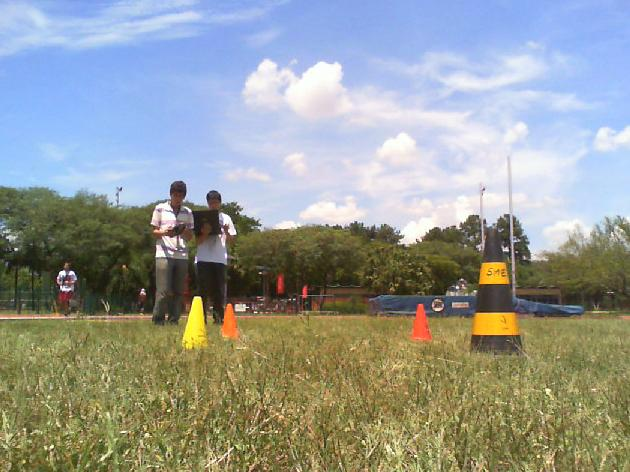0 cone: (463, 229, 532, 360), (181, 296, 208, 348), (410, 303, 432, 341), (220, 304, 238, 339)
